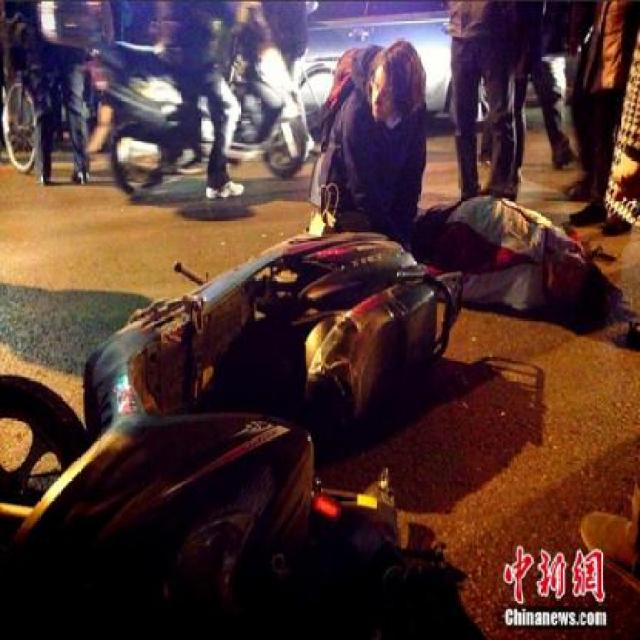fall: (401, 172, 624, 328)
